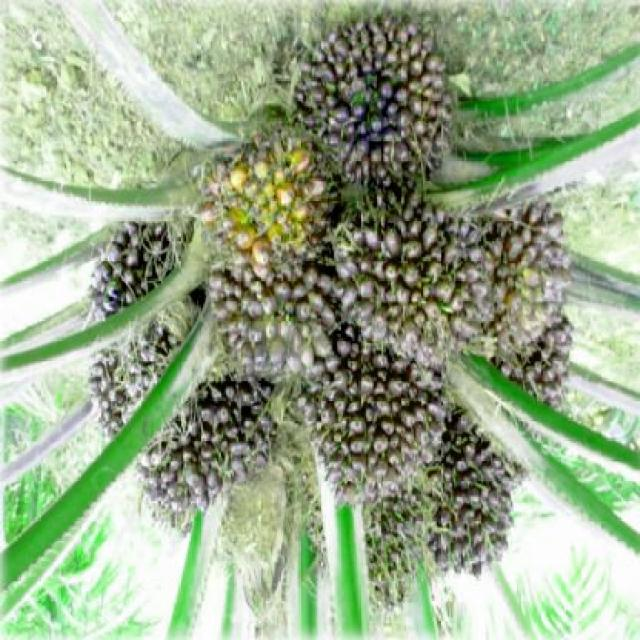palm-oil: (106, 216, 300, 529), (296, 13, 474, 214), (342, 411, 523, 594), (297, 329, 451, 484), (336, 206, 494, 354), (464, 176, 562, 372), (203, 115, 332, 263), (515, 327, 583, 433)
